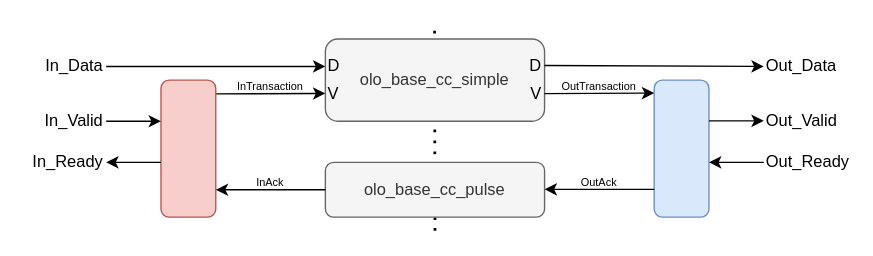
Image size: 873x256. Some labels were removed from this diagram. The shapes that lost their labels are listed below. From the top down, each one's box as (x1, y1, x2, y2) in pixels, then its label:
(160, 79, 216, 217): Input Logic
(653, 79, 709, 217): Output Logic
